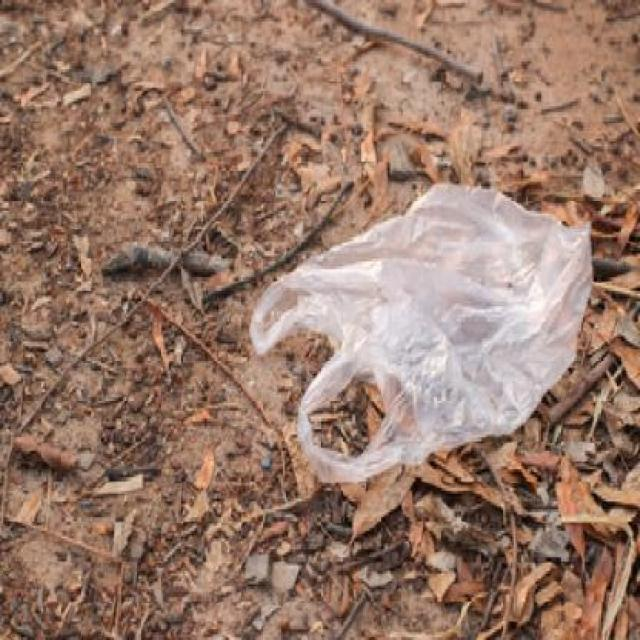plastic bag: (242, 155, 599, 516)
